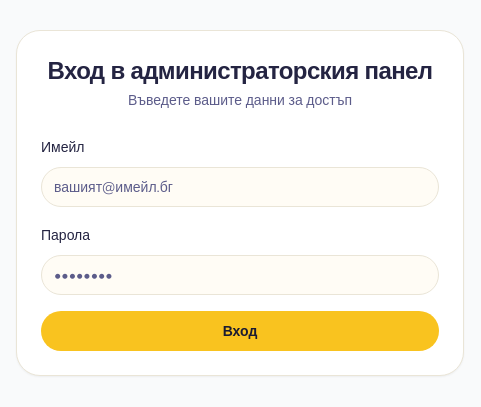
Test case: Login Page › Form Validation › should show error for short password
Type "test@test.com" into the field labelled "Имейл" at (240, 187), box [41,167,439,207]
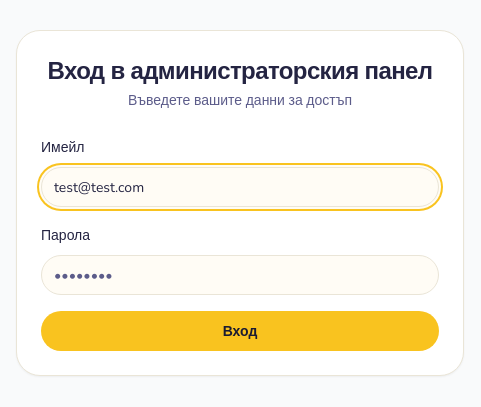
Type "12345" into the password field labelled "Парола" at (240, 275), box [41,255,439,295]
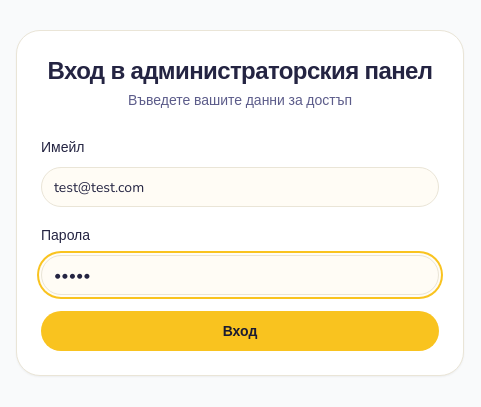
Click the button "Вход" at (240, 331), box [41,311,439,351]
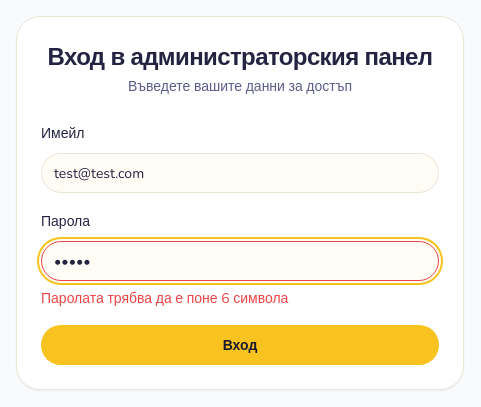
Expected: the text "Паролата трябва да е поне 6 символа" is shown, [41,289,288,308]
